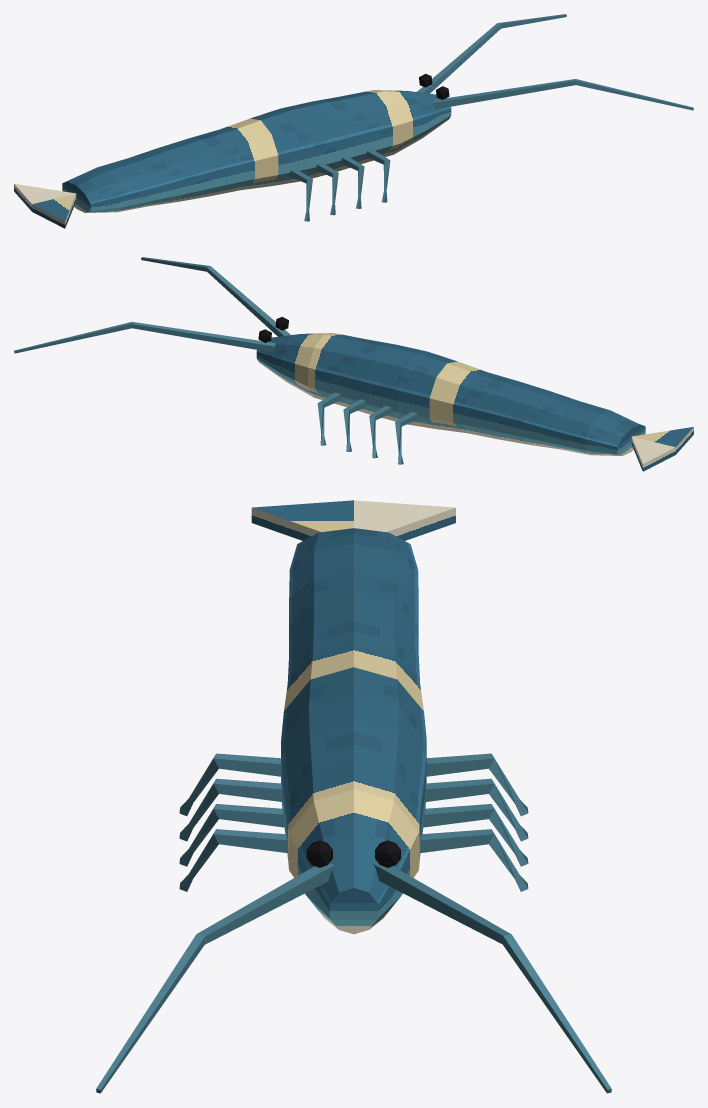
The model's file is painted_rock_lobster.glb.
3 renders of one model, top to bottom at view 1: azimuth 30°, elevation 25°; view 2: azimuth 150°, elevation 25°; view 3: azimuth 270°, elevation 25°, orthographic. The views are drawn at different scales.
Parts seen in each view (by area): view 1: fish_painted_rock_lobster; view 2: fish_painted_rock_lobster; view 3: fish_painted_rock_lobster.
Part boxes in pixels (x1,y1,x2,y2): fish_painted_rock_lobster: (14,14,693,228); fish_painted_rock_lobster: (14,257,693,471); fish_painted_rock_lobster: (96,500,611,1093).
Bounding box in the file's own units: 1.62 × 0.1934 × 0.6055.
Materials: 3 (1 with a texture image).
